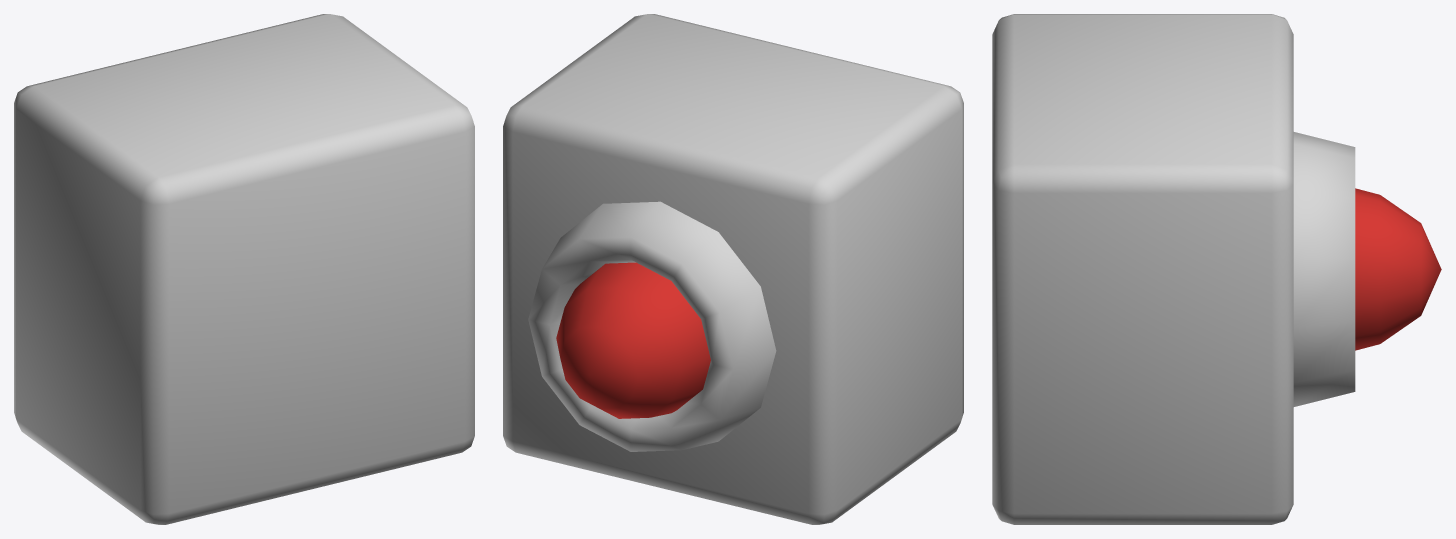
The model's file is MovingBlock.fbx.
3 renders of one model, left to right at view 1: azimuth 30°, elevation 25°; view 2: azimuth 150°, elevation 25°; view 3: azimuth 270°, elevation 25°, orthographic. The views are drawn at different scales.
Visible parts, largest first — view 1: Cube; view 2: Cube; view 3: Cube.
Boxes of the visible parts, x1=… form: Cube: x1=14, y1=14, x2=474, y2=524; Cube: x1=503, y1=14, x2=963, y2=524; Cube: x1=992, y1=14, x2=1441, y2=524.
Bounding box in the file's own units: 0.2 × 0.2 × 0.2262.
